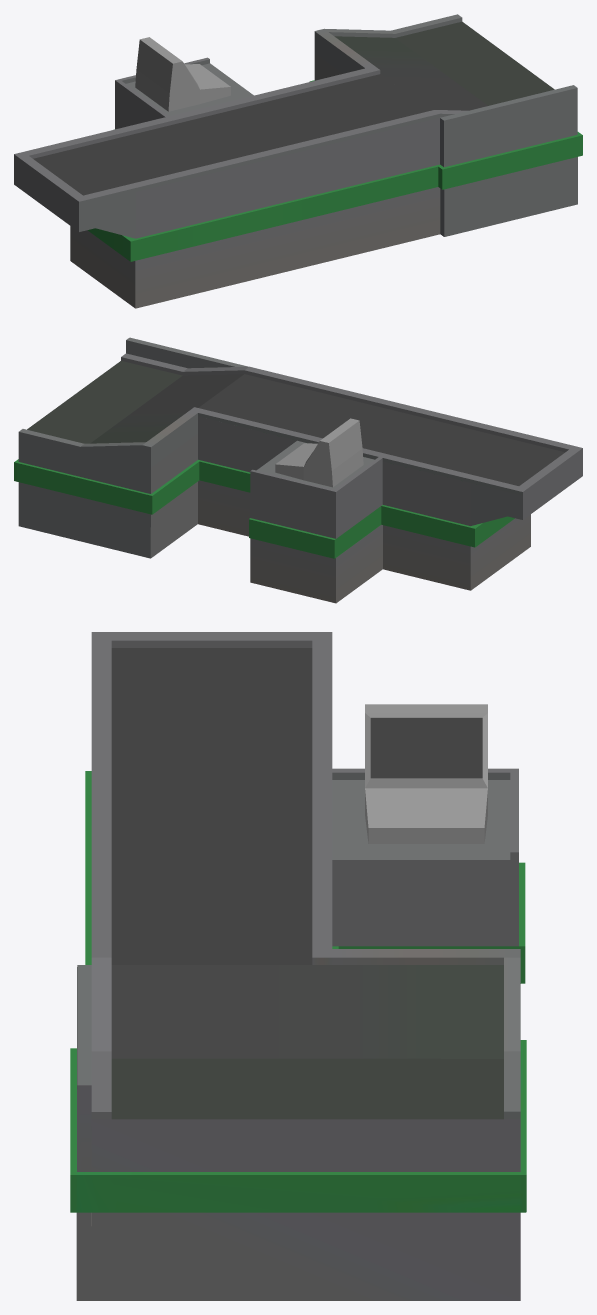
Rendered from Checkout.fbx.
3 renders of one model, top to bottom at view 1: azimuth 30°, elevation 25°; view 2: azimuth 150°, elevation 25°; view 3: azimuth 270°, elevation 25°, orthographic. The views are drawn at different scales.
Parts seen in each view (by area): view 1: Cube; view 2: Cube; view 3: Cube.
Boxes of the visible parts, x1=… form: Cube: x1=14, y1=14, x2=582, y2=308; Cube: x1=14, y1=337, x2=582, y2=603; Cube: x1=70, y1=632, x2=526, y2=1300.
Bounding box in the file's own units: 740 × 232 × 318.
